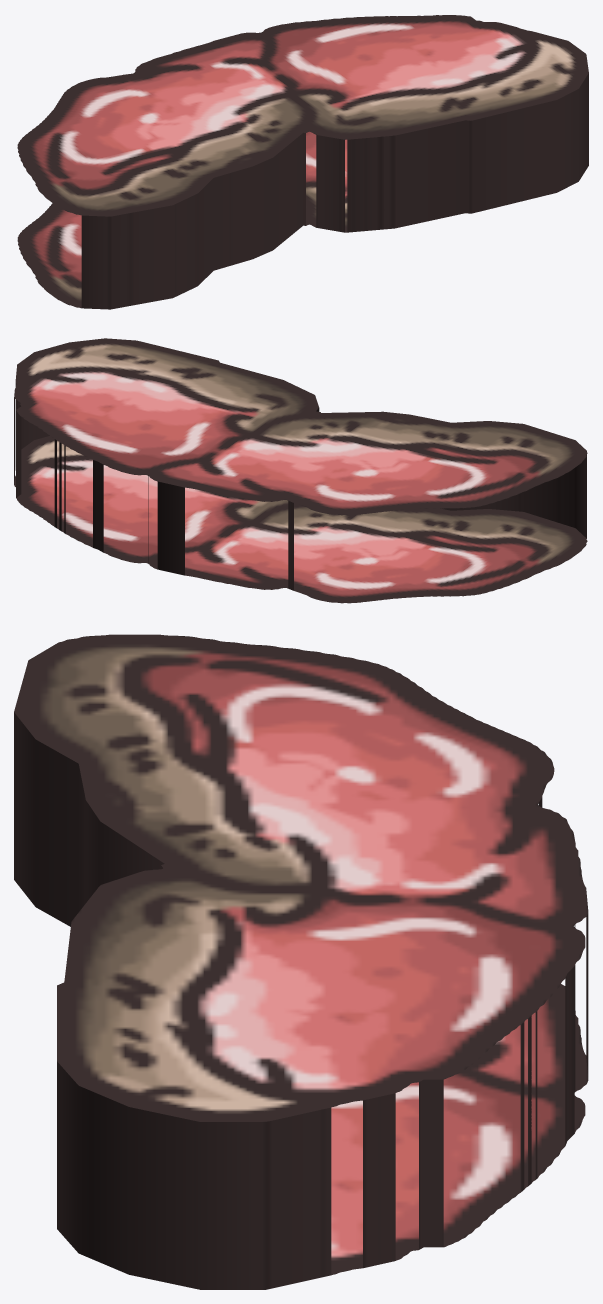
3 renders of one model, top to bottom at view 1: azimuth 30°, elevation 25°; view 2: azimuth 150°, elevation 25°; view 3: azimuth 270°, elevation 25°, orthographic. The views are drawn at different scales.
Visible parts, largest first — view 1: Curve; view 2: Curve; view 3: Curve.
Part boxes in pixels (<box>): Curve: <box>17,15,588,309</box>; Curve: <box>14,338,587,603</box>; Curve: <box>14,634,588,1289</box>.
Bounding box in the file's own units: 1 × 0.16 × 0.4968.
Materials: 1 (1 with a texture image).
